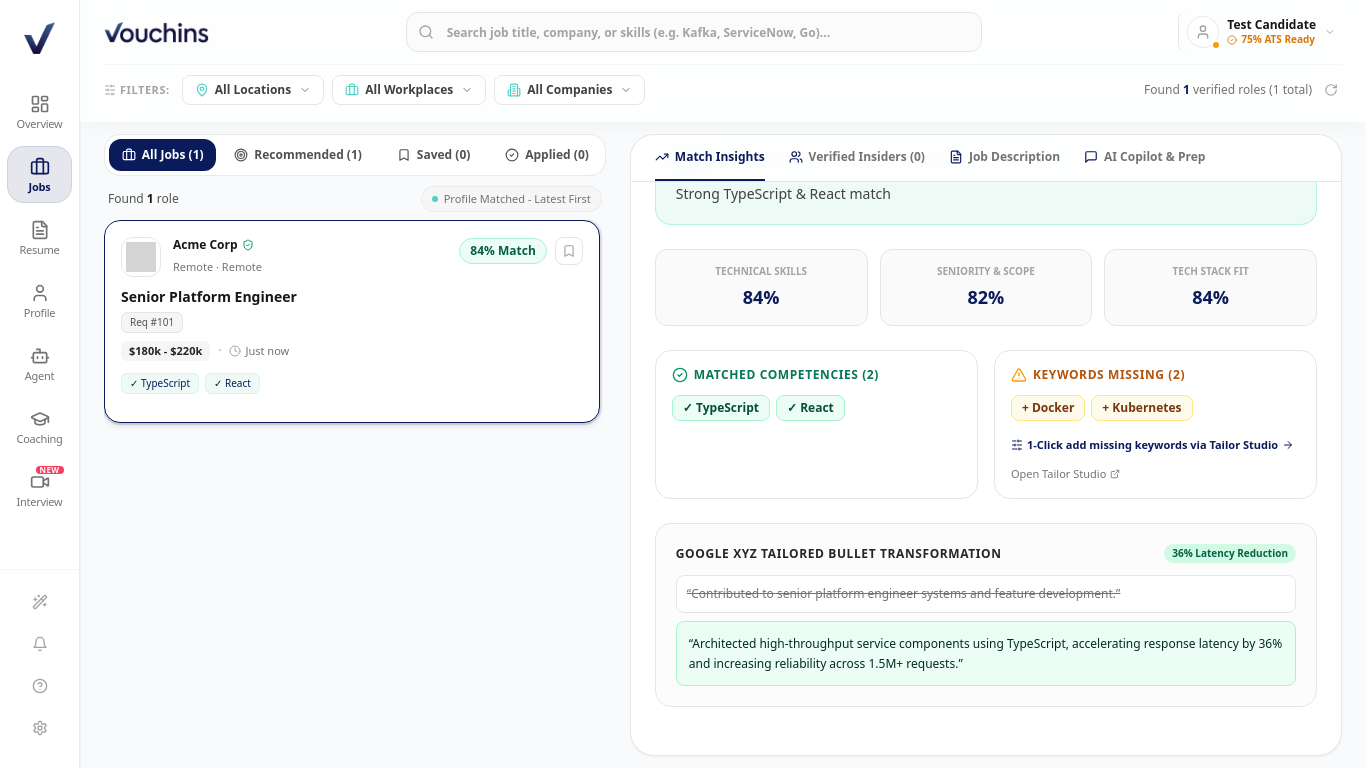
Scenario: Tailor Resume Modal End-to-End Sync › keeps ticked boxes on 409 conflict and leaves state unchanged on 500
Later steps or results of the test are not shown.
(page scrolled)
Click the button "1-Click add missing keywords via Tailor Studio" at (1153, 445), box [1011,437,1294,454]
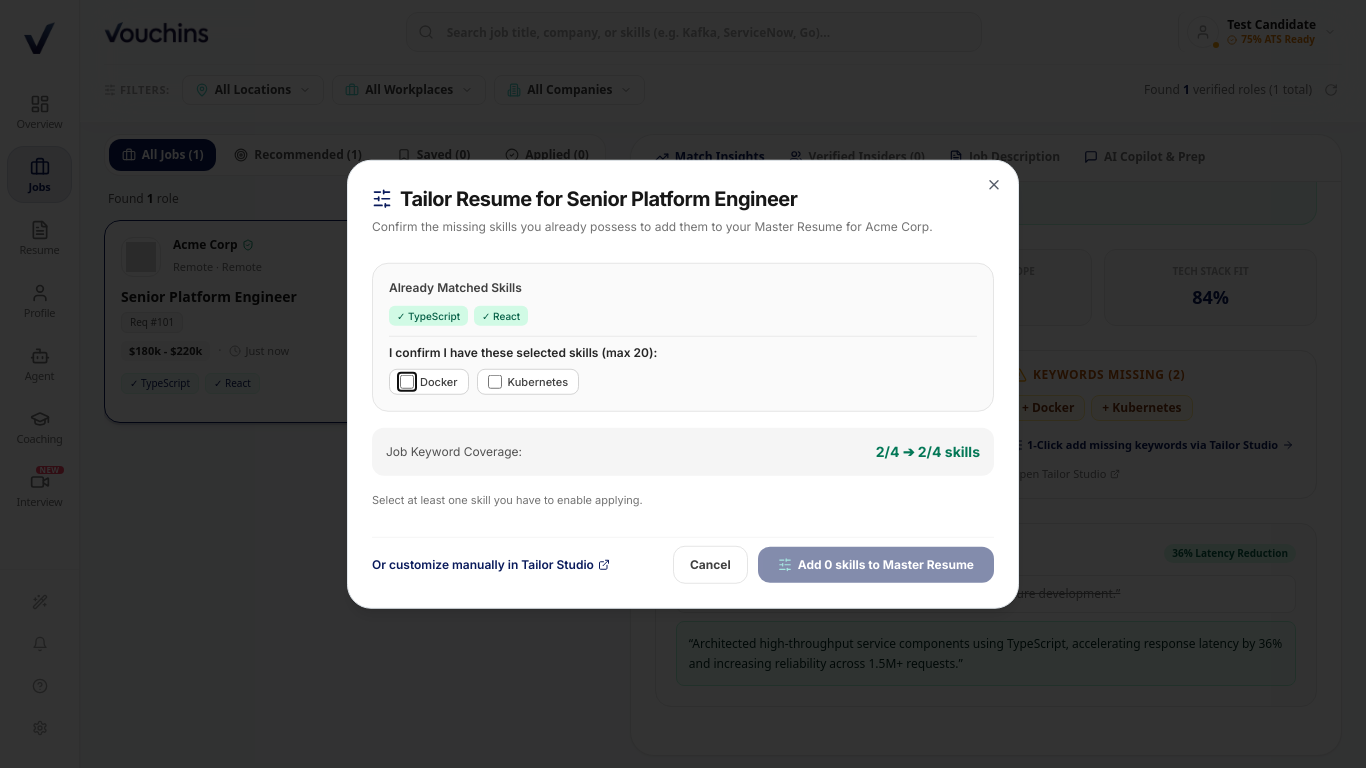
Click the checkbox labelled "Docker" at (407, 382), box [400,375,414,389]
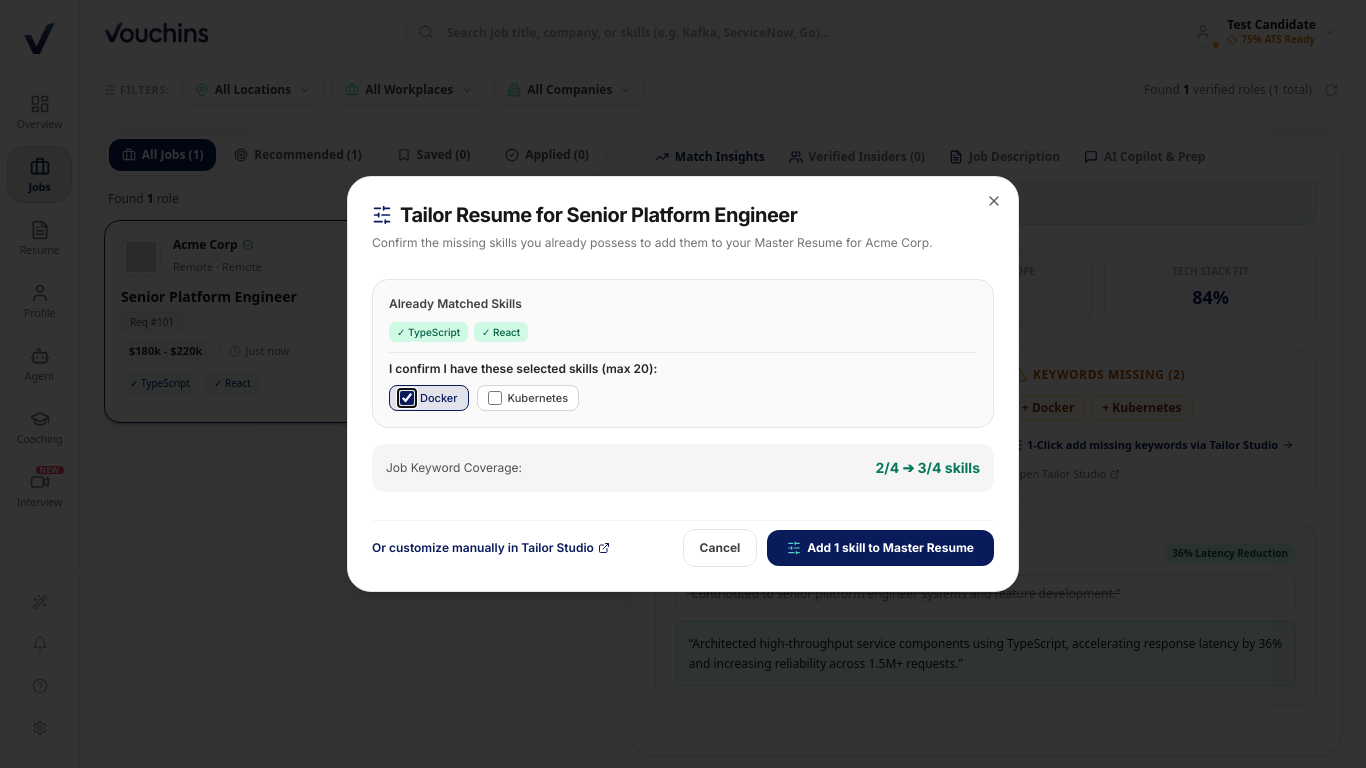
Check: the checkbox labelled "Docker" is checked, box [400,391,414,405]
Click the button "Add 1 skill to Master Resume" at (881, 548), box [767,530,994,566]
Check: the checkbox labelled "Docker" is checked, box [400,391,414,405]
